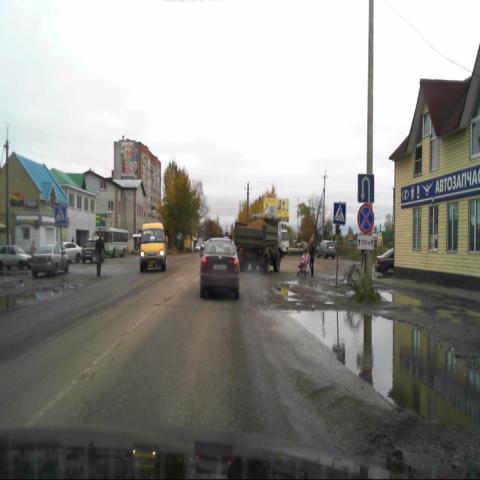6_3_1: (358, 174, 374, 204)
8_2_1: (356, 235, 374, 250)
